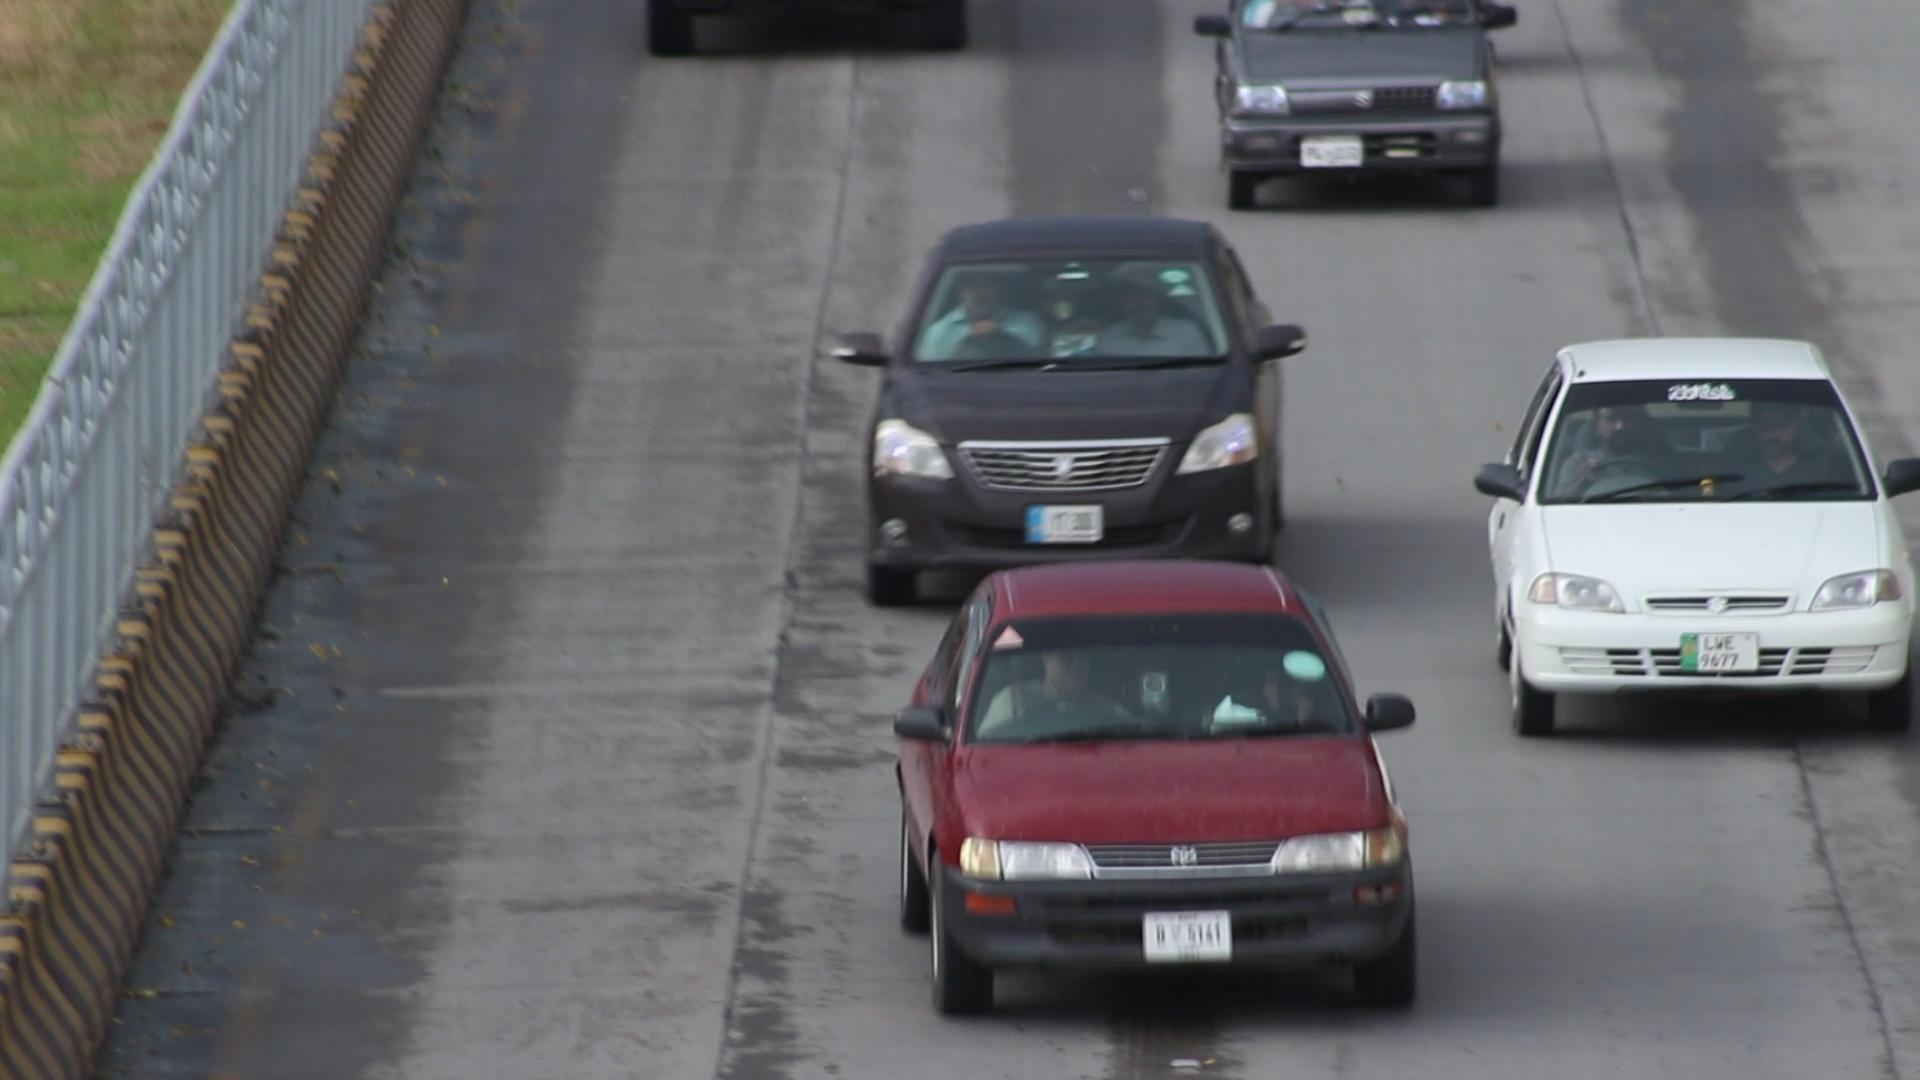windshield: (959, 604, 1362, 756), (1528, 367, 1870, 506), (898, 232, 1236, 364)
